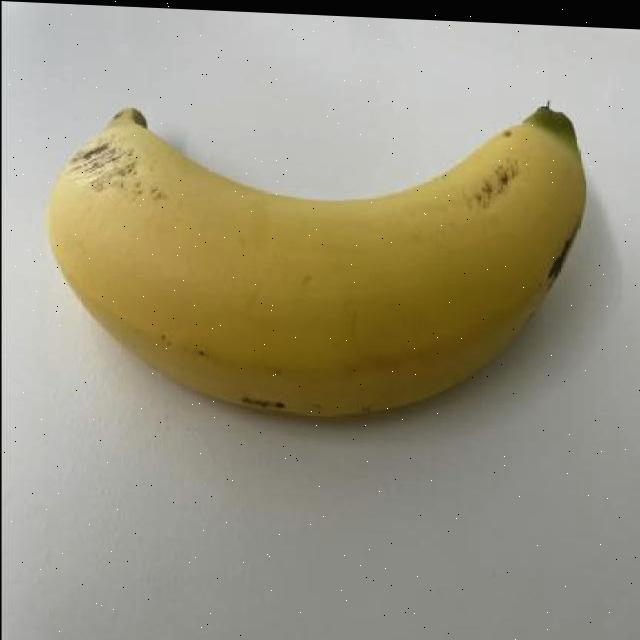banana: (47, 72, 586, 433)
